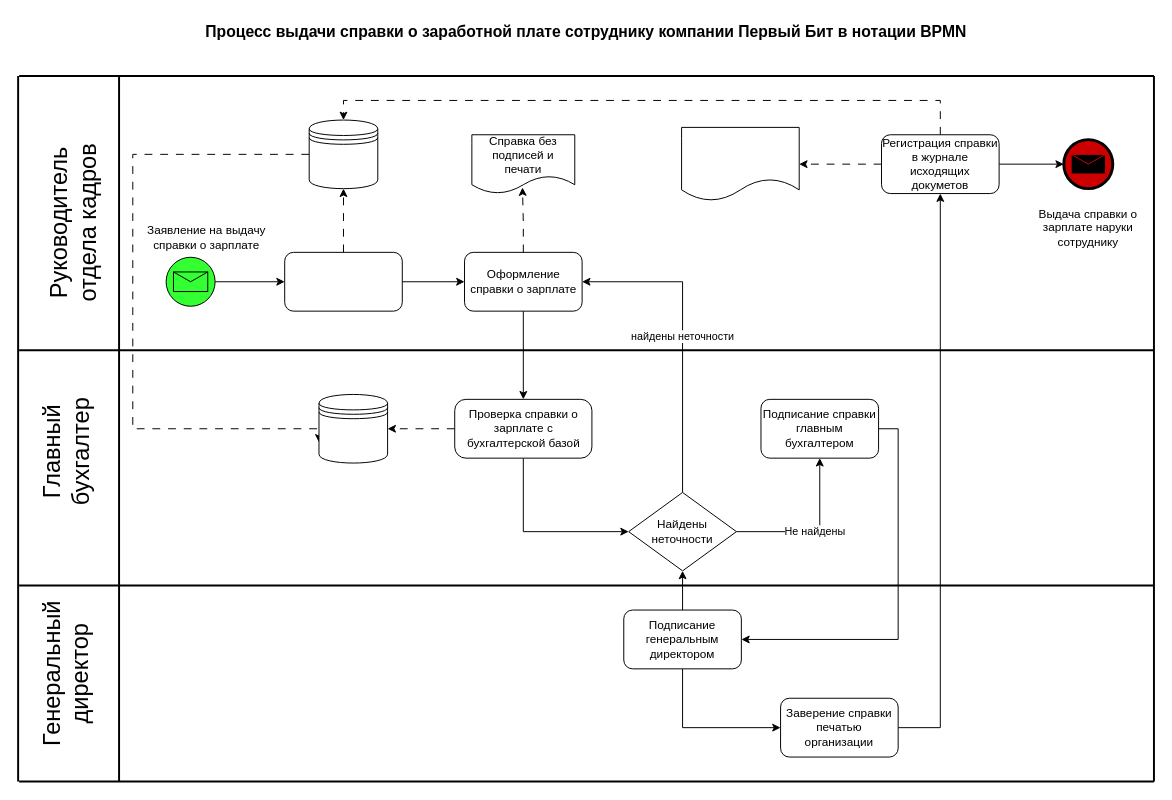
Some shapes in this 1172 by 800 pixel diagram are drawn without their labels. The shapes that lost their labels are listed below. From the top down, each one's centre as x and y in pixels, then its label:
At (343,154): "База 1С Кадры".
At (740,163): "Готовая справка: с номером, печатью и подписями".
At (343,281): "Регистрация заявления в системе кадрового делопроизовдства".
At (353,428): "База 1С Бухгалтерия".
